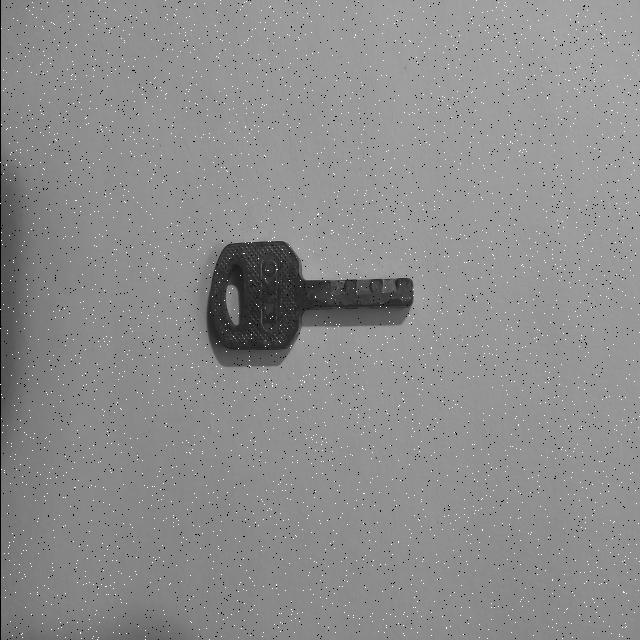key: (209, 241, 413, 349)
